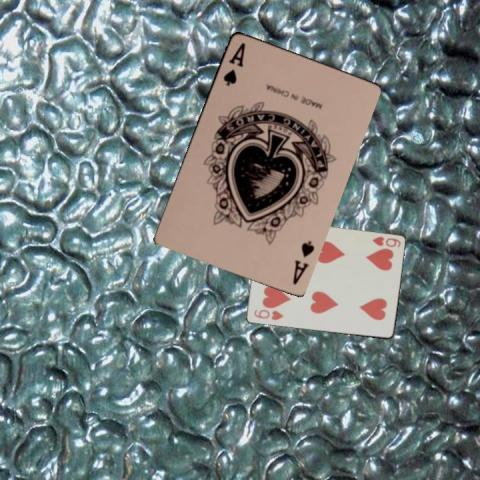6h: (369, 233, 402, 249), (251, 307, 284, 322)
As: (289, 237, 316, 286), (220, 39, 247, 87)
